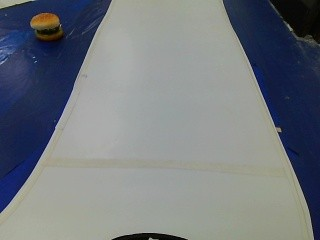burger: (24, 10, 68, 44)
